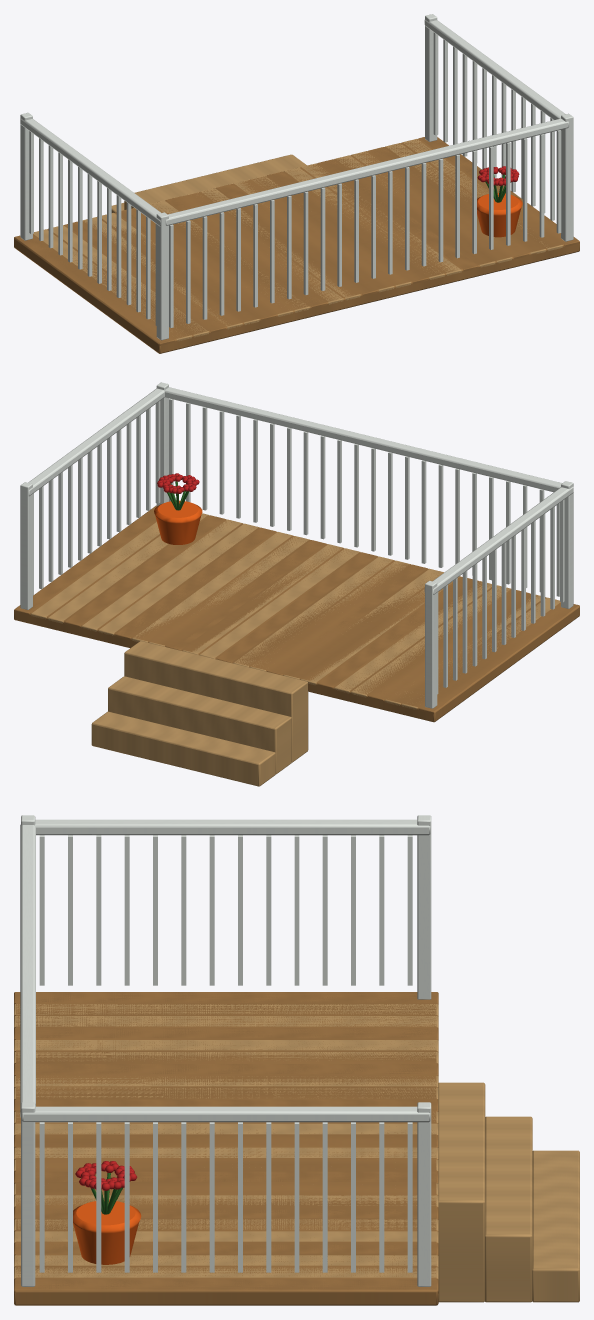
File: PorchDeck.gltf
The picture shows the model from 3 angles, top to bottom: view 1: azimuth 30°, elevation 25°; view 2: azimuth 150°, elevation 25°; view 3: azimuth 270°, elevation 25°; orthographic projection. The views are drawn at different scales.
Parts seen in each view (by area): view 1: PorchDeck__Body, PorchDeck__Deck, PorchDeck__Step2; view 2: PorchDeck__Body, PorchDeck__Deck, PorchDeck__Step2, PorchDeck__Step1, PorchDeck__Step0; view 3: PorchDeck__Body, PorchDeck__Deck, PorchDeck__Step2, PorchDeck__Step1, PorchDeck__Step0.
Boxes of the visible parts, bbox=[...] form: PorchDeck__Body: bbox=[14, 14, 579, 345]; PorchDeck__Deck: bbox=[14, 138, 579, 353]; PorchDeck__Step2: bbox=[124, 154, 306, 209]; PorchDeck__Body: bbox=[14, 382, 579, 714]; PorchDeck__Deck: bbox=[14, 508, 579, 722]; PorchDeck__Step2: bbox=[124, 641, 308, 762]; PorchDeck__Step1: bbox=[108, 676, 291, 774]; PorchDeck__Step0: bbox=[91, 711, 275, 786]; PorchDeck__Body: bbox=[14, 815, 438, 1293]; PorchDeck__Deck: bbox=[14, 992, 438, 1305]; PorchDeck__Step2: bbox=[438, 1082, 485, 1302]; PorchDeck__Step1: bbox=[485, 1116, 532, 1302]; PorchDeck__Step0: bbox=[532, 1150, 579, 1302].
Bounding box in the file's own units: 2.8 × 1.23 × 2.24.
Materials: 1 (1 with a texture image).
